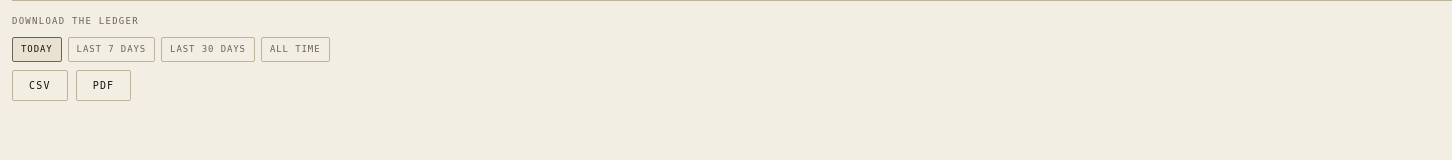
with no ledger store reachable › says the build has no ledger store at all
Click the button "CSV".
click(40, 86)  # box [12,70,68,101]
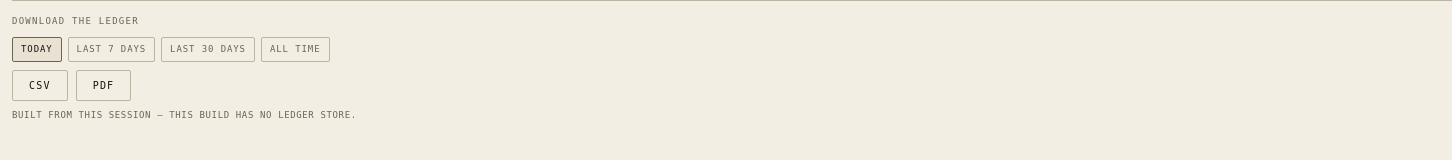
Now the message shows "THIS BUILD HAS NO LEDGER STORE", box [12,110,357,120]
